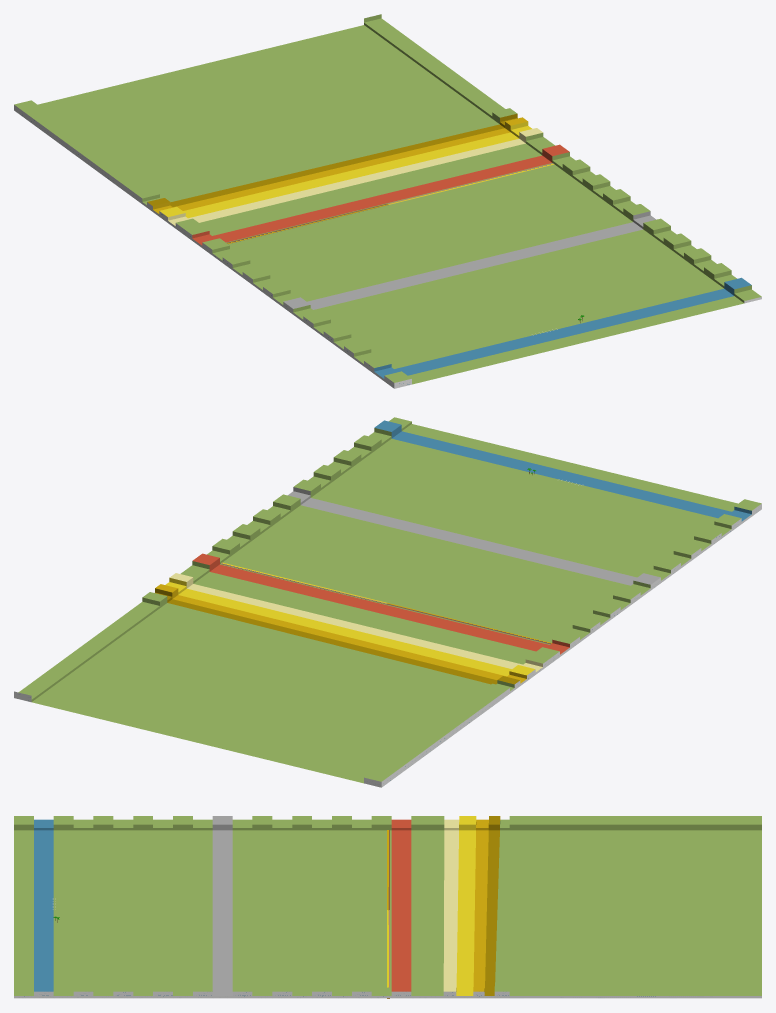
Rendered from speed-test-track.glb.
The picture shows the model from 3 angles, top to bottom: view 1: azimuth 30°, elevation 25°; view 2: azimuth 150°, elevation 25°; view 3: azimuth 270°, elevation 25°; orthographic projection.
Visible parts, largest first — view 1: ground, break-block; view 2: ground, break-block; view 3: ground, break-block.
Part boxes in pixels (<box>): ground: <box>14,14,761,388</box>; break-block: <box>227,163,554,244</box>; ground: <box>14,417,761,787</box>; break-block: <box>221,562,551,644</box>; ground: <box>14,816,761,998</box>; break-block: <box>387,830,389,998</box>.
Size of the model in its own units: 1001 by 18.4 by 1792.
Materials: 2 (2 with a texture image).
